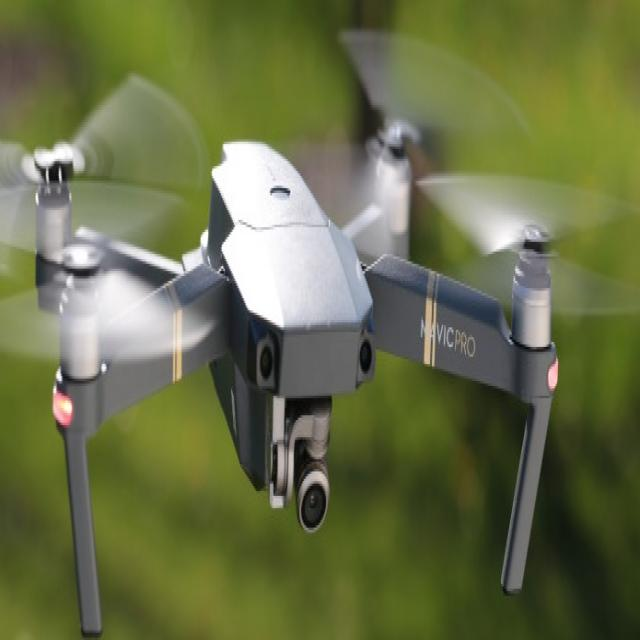drone: (1, 39, 636, 614)
